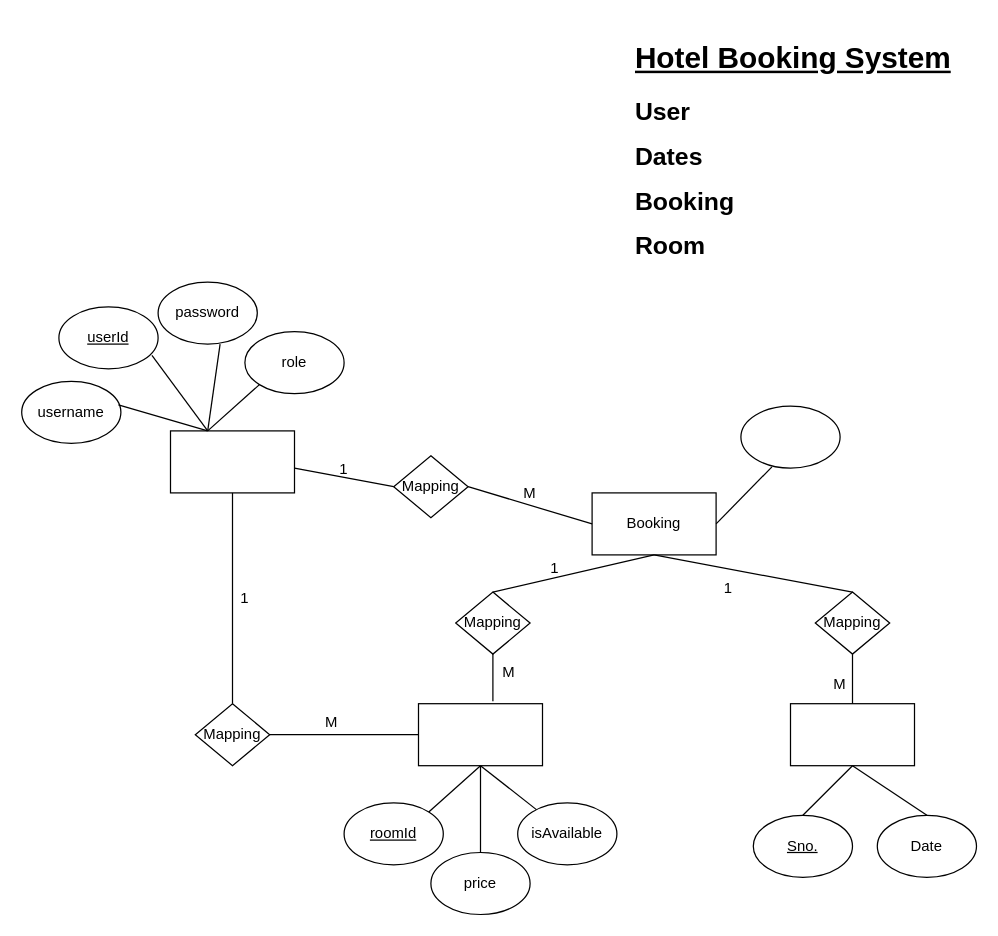
Image size: 998x936. Some labels were removed from this diagram. Here are the shapes that lost their labels. From the top down, the centre of each, then its label:
At point (790, 436): "bookingId".
At point (231, 461): "User".
At point (479, 734): "Room".
At point (851, 734): "Dates".
